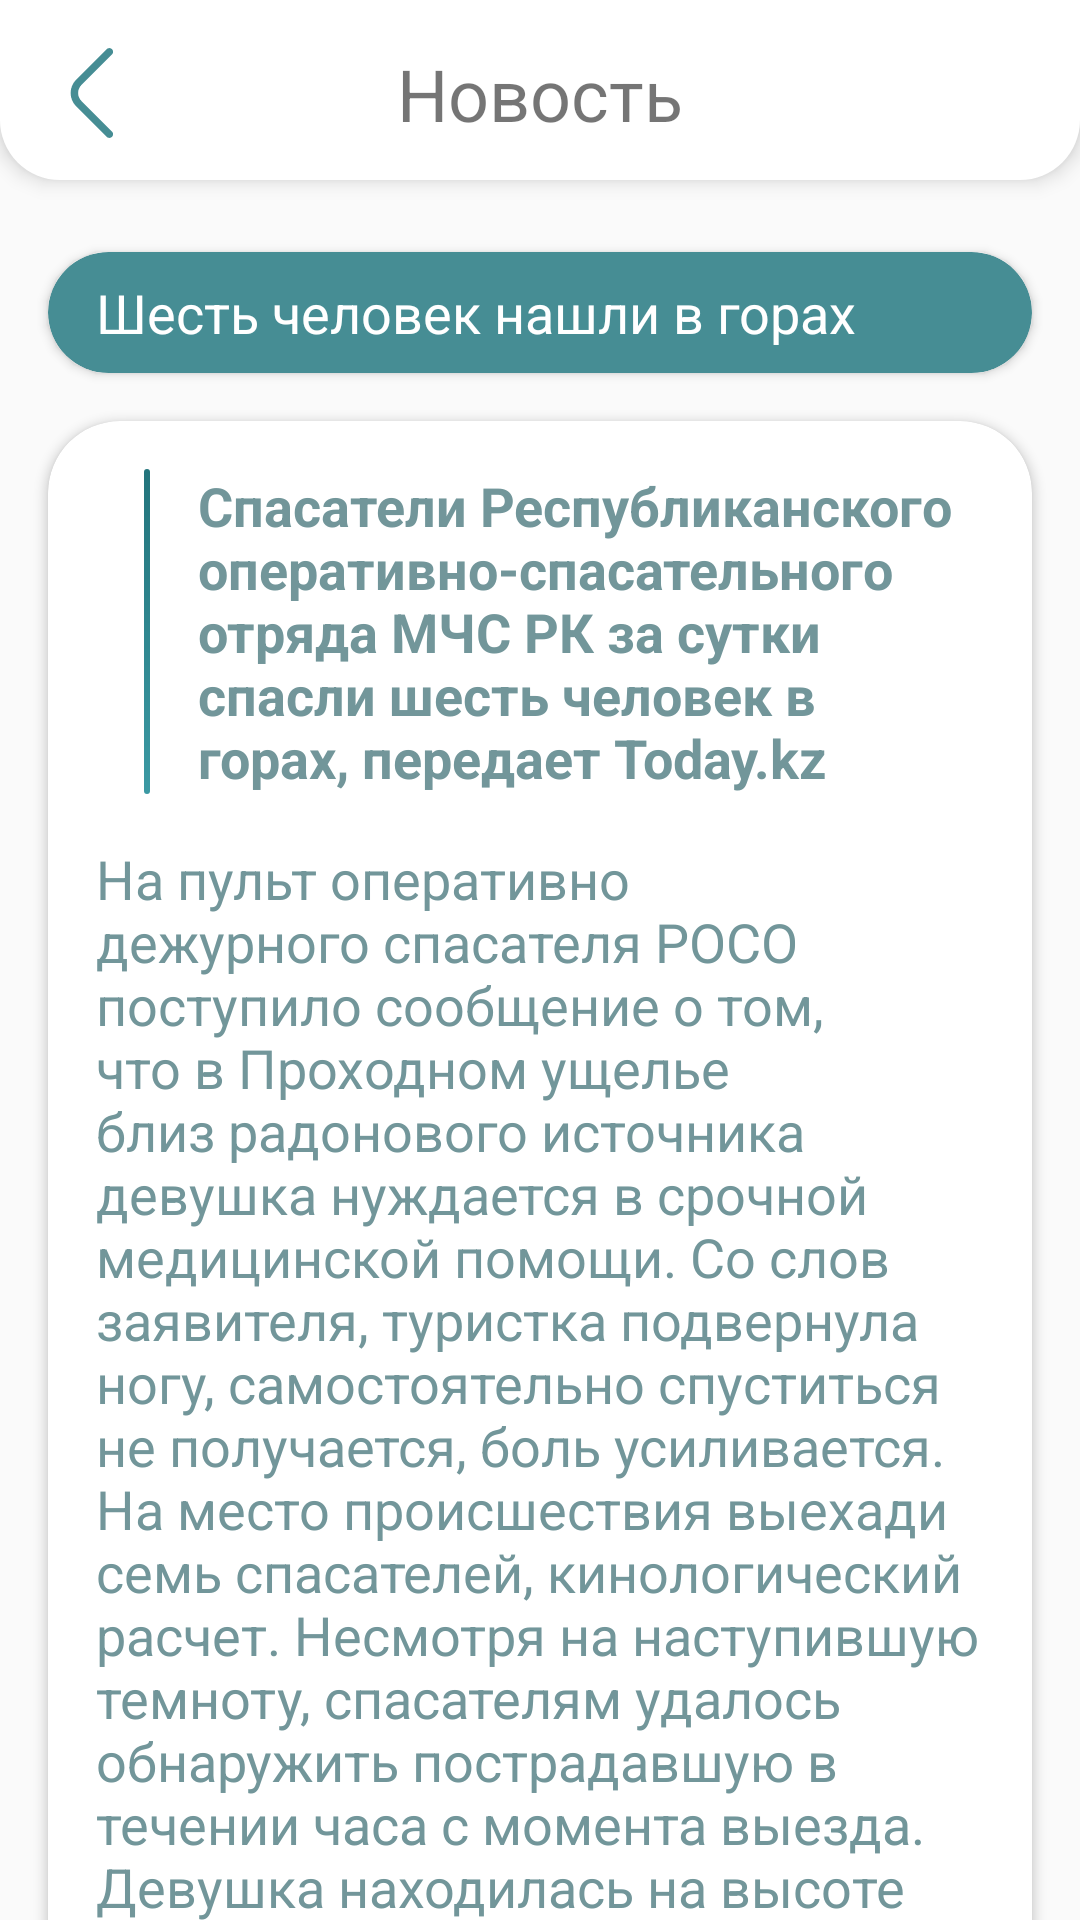

Icon bounding boxes for this 1080 × 1920 phone screenshot, format (x1, y1, x2, y2):
angle left: (70, 48, 113, 138)
